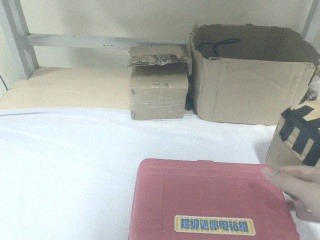box: (127, 160, 303, 240), (187, 20, 314, 129), (121, 39, 193, 126), (264, 102, 320, 174)
